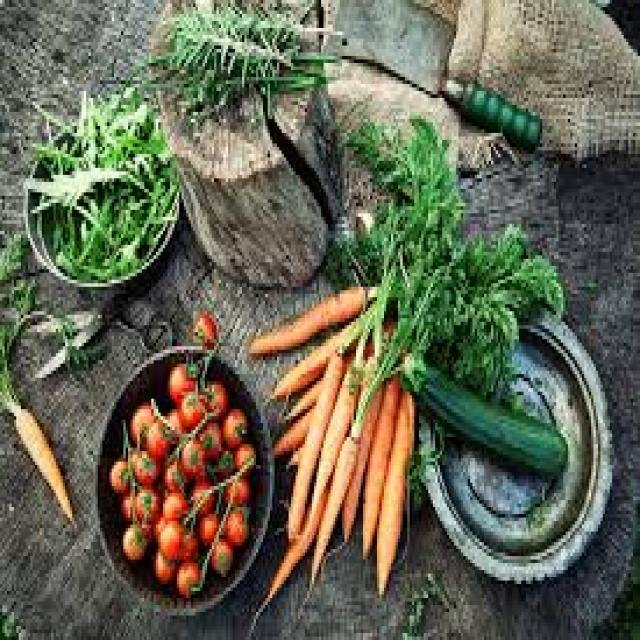organic waste: (384, 217, 563, 392), (323, 119, 454, 283), (396, 353, 563, 479), (247, 465, 326, 637), (284, 346, 340, 542), (298, 430, 356, 619), (167, 0, 291, 84), (244, 276, 377, 354), (39, 150, 174, 224), (30, 102, 161, 172), (110, 49, 338, 87), (270, 311, 368, 392), (375, 381, 412, 591), (9, 402, 72, 525), (358, 374, 398, 556), (21, 164, 140, 210), (54, 217, 146, 273), (0, 231, 28, 409), (340, 384, 363, 546), (54, 318, 110, 367), (270, 402, 312, 455), (282, 367, 321, 420), (75, 95, 100, 172), (144, 412, 172, 462), (177, 430, 200, 483), (195, 416, 219, 465), (168, 360, 195, 402), (170, 556, 198, 595), (188, 469, 212, 514), (221, 399, 244, 444), (132, 486, 160, 521), (223, 500, 244, 546), (130, 398, 152, 441), (179, 388, 203, 427), (200, 378, 224, 416), (130, 444, 156, 479), (158, 486, 184, 521), (189, 311, 214, 346), (119, 521, 144, 556), (228, 440, 251, 476), (207, 535, 228, 574), (154, 528, 182, 556), (221, 472, 247, 500), (174, 521, 196, 553), (107, 455, 128, 486), (151, 546, 172, 577), (116, 482, 133, 518), (198, 511, 214, 549), (165, 406, 182, 440)
